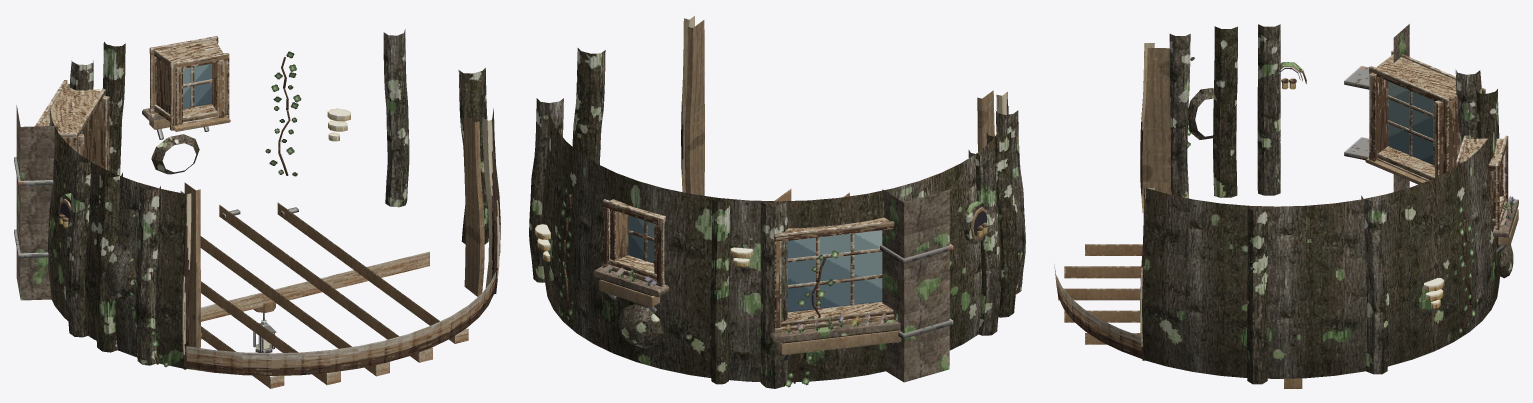
The model's file is trunk_f2.glb.
3 views of the same model, side by side, from view 1: azimuth 30°, elevation 25°; view 2: azimuth 150°, elevation 25°; view 3: azimuth 270°, elevation 25° (orthographic). The views are drawn at different scales.
Parts seen in each view (by area): view 1: tile_bark, tile_wood, solid, tile_boards, tile_stone, pane, card; view 2: tile_bark, tile_stone, tile_wood, solid, pane, card; view 3: tile_bark, tile_wood, solid, pane, tile_boards, tile_stone, card.
Boxes of the visible parts, x1,y1,x2,y2 form: tile_bark: (48,29,500,368); tile_wood: (35,36,468,388); solid: (14,57,499,369); tile_boards: (186,271,496,375); tile_stone: (16,105,164,300); pane: (81,64,211,134); card: (129,51,301,367); tile_bark: (529,48,1025,388); tile_stone: (593,189,949,382); tile_wood: (599,189,901,354); solid: (535,16,1007,383); pane: (628,215,882,312); card: (557,150,1018,387); tile_bark: (1140,24,1513,384); tile_wood: (1058,50,1518,388); solid: (1140,43,1506,360); pane: (1388,81,1433,164); tile_boards: (1054,264,1142,358); tile_stone: (1393,24,1518,237); card: (1187,57,1516,333).
Size of the model in its own units: 182 by 105 by 177.
4 materials, 4 textured.
